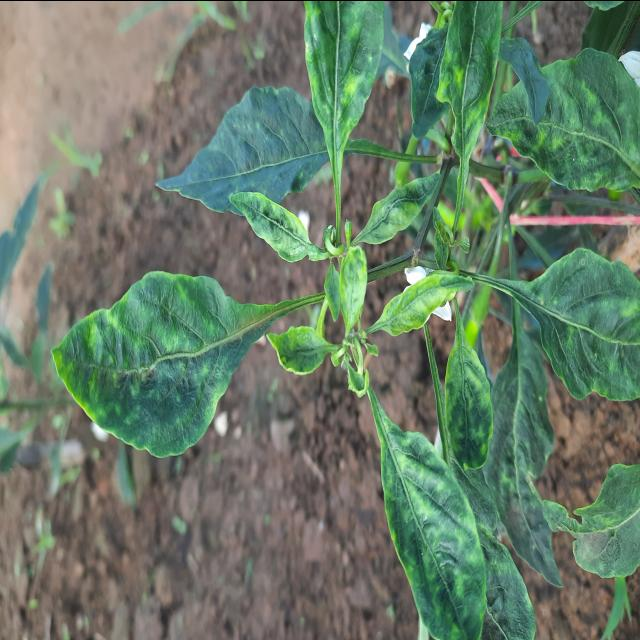thrips: (55, 256, 298, 504), (234, 180, 316, 282), (378, 256, 466, 342)
